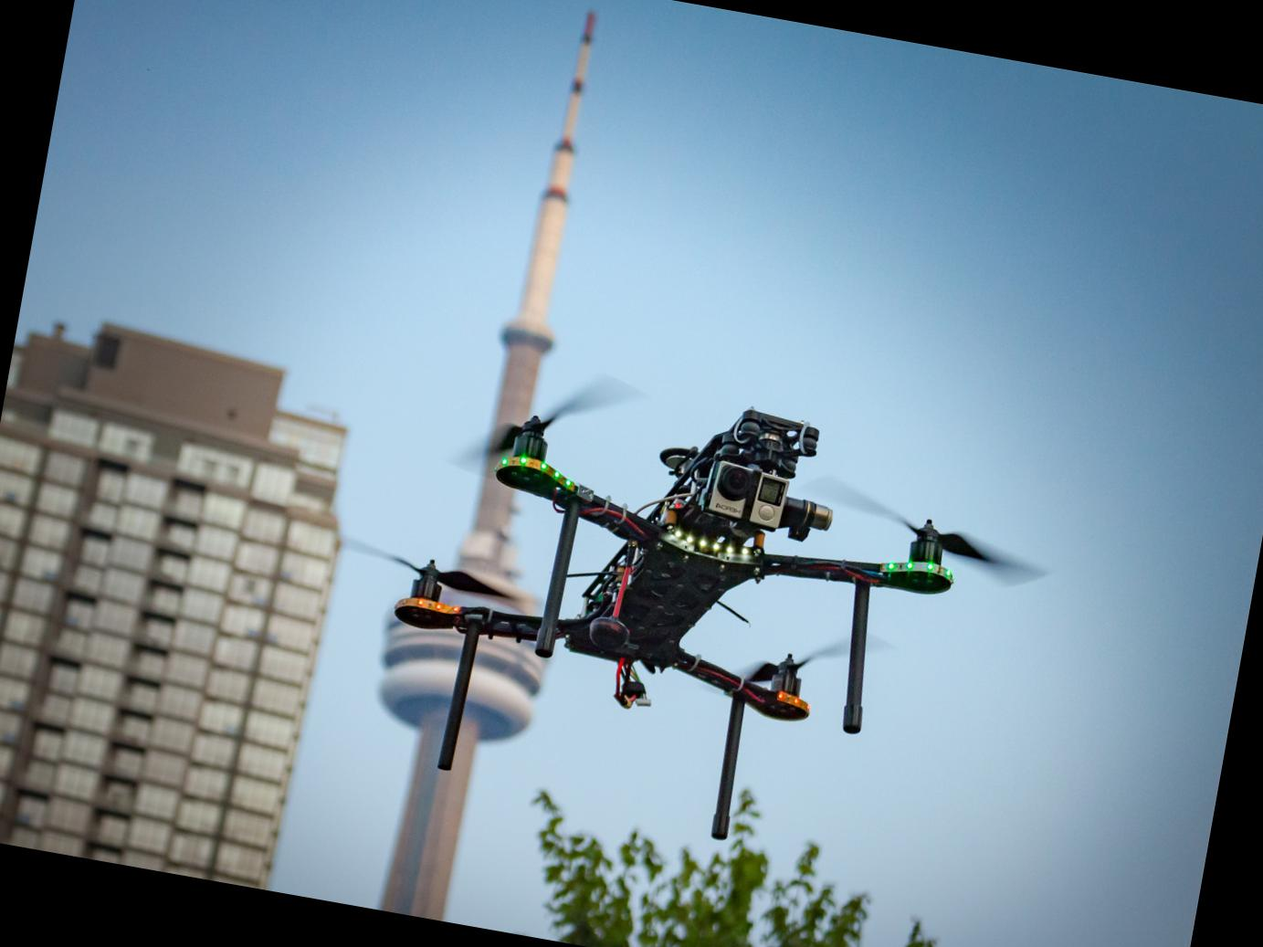drone: (320, 351, 1040, 812)
